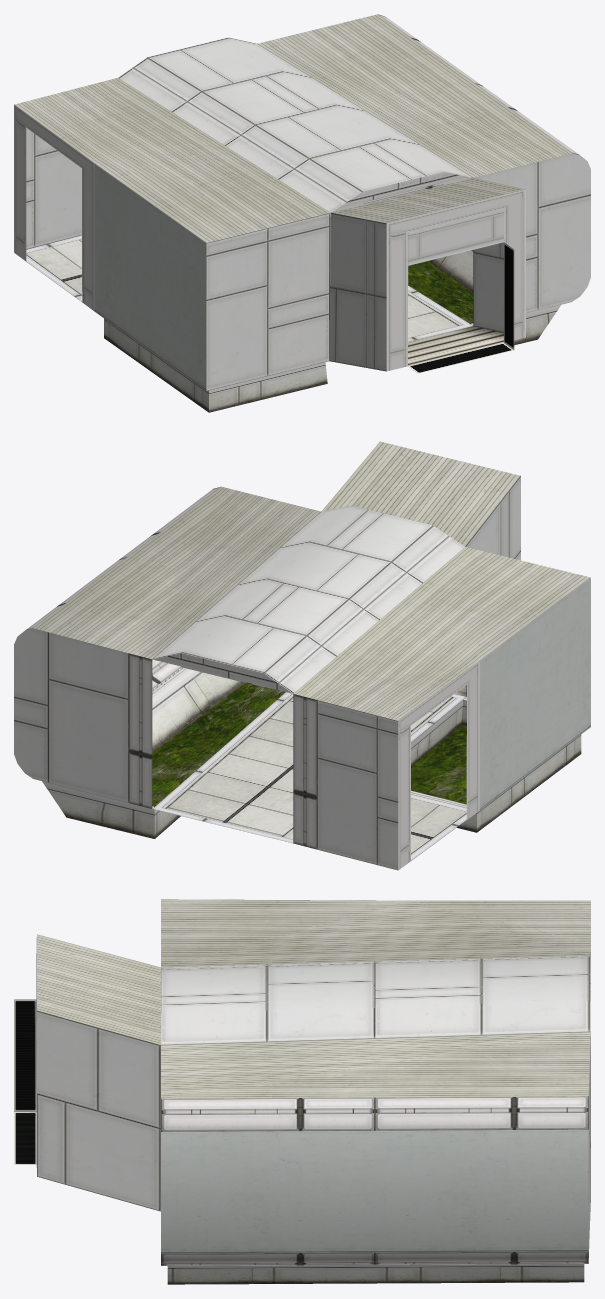
The model's file is STA20_officeconnect01.FBX.
The picture shows the model from 3 angles, top to bottom: view 1: azimuth 30°, elevation 25°; view 2: azimuth 150°, elevation 25°; view 3: azimuth 270°, elevation 25°; orthographic projection. The views are drawn at different scales.
Parts seen in each view (by area): view 1: STA20_officeconnect01; view 2: STA20_officeconnect01; view 3: STA20_officeconnect01.
Part boxes in pixels (x1,y1,x2,y2): STA20_officeconnect01: [14, 14, 590, 412]; STA20_officeconnect01: [14, 441, 590, 870]; STA20_officeconnect01: [14, 899, 590, 1284].
Size of the model in its own units: 12.02 by 6.26 by 13.89.
